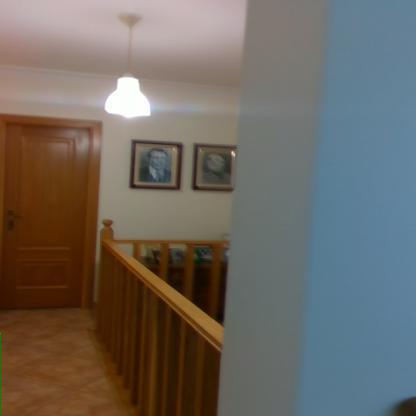door: (5, 123, 86, 308)
lever: (8, 215, 27, 220)
